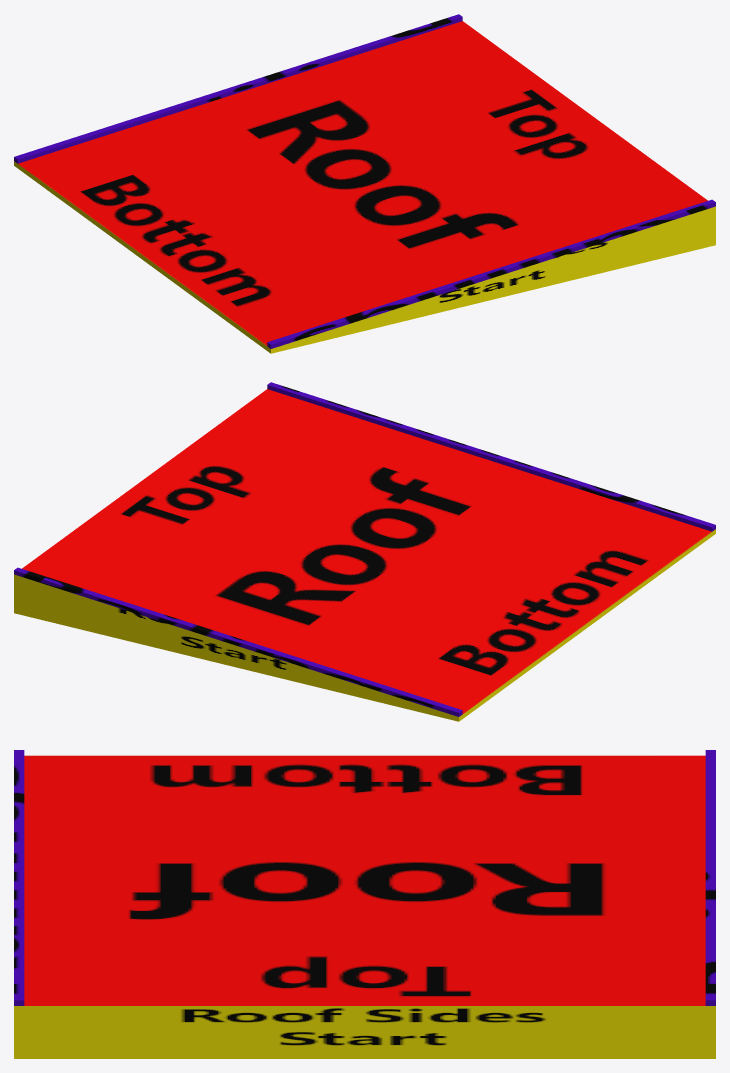
The model's file is ENV_Roof_TheeXThree_TypeTwo.fbx.
3 views of the same model, one above another, from view 1: azimuth 30°, elevation 25°; view 2: azimuth 150°, elevation 25°; view 3: azimuth 270°, elevation 25° (orthographic). The views are drawn at different scales.
Visible parts, largest first — view 1: ThreeXThreeRoofTwo; view 2: ThreeXThreeRoofTwo; view 3: ThreeXThreeRoofTwo.
Part boxes in pixels (bbox=[...]): ThreeXThreeRoofTwo: bbox=[14, 14, 715, 353]; ThreeXThreeRoofTwo: bbox=[14, 382, 715, 721]; ThreeXThreeRoofTwo: bbox=[14, 750, 715, 1058].
Size of the model in its own units: 36 by 3.32 by 36.
